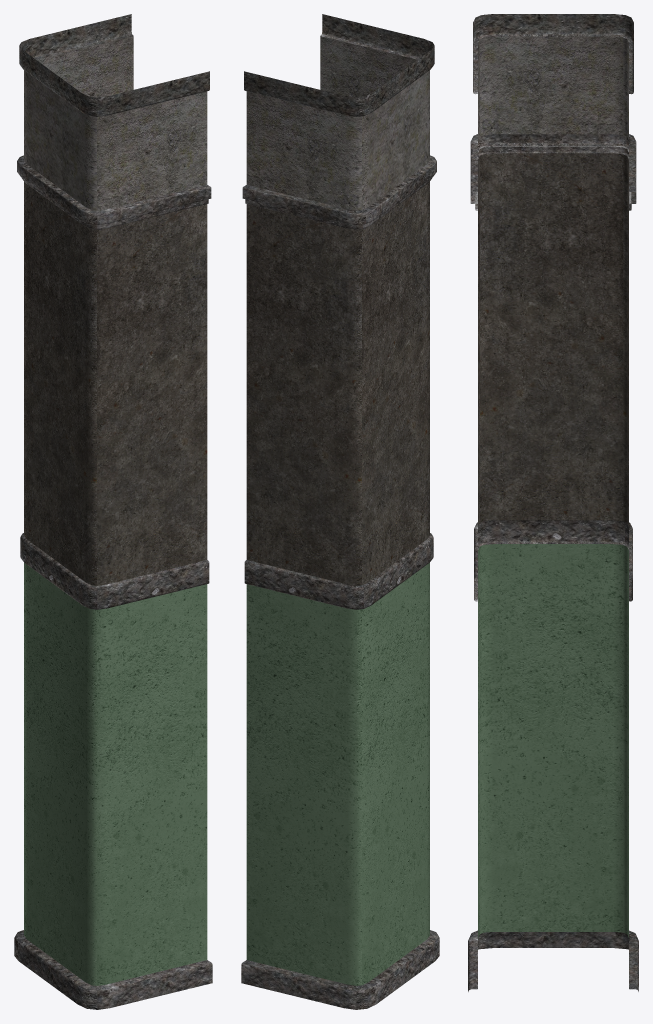
The model's file is WallColumn.FBX.
3 views of the same model, side by side, from view 1: azimuth 30°, elevation 25°; view 2: azimuth 150°, elevation 25°; view 3: azimuth 270°, elevation 25° (orthographic). The views are drawn at different scales.
Visible parts, largest first — view 1: Column001; view 2: Column001; view 3: Column001.
Boxes of the visible parts, x1=… form: Column001: x1=14, y1=14, x2=212, y2=1009; Column001: x1=241, y1=14, x2=439, y2=1009; Column001: x1=468, y1=14, x2=638, y2=991.
Bounding box in the file's own units: 11.81 × 83.38 × 13.78.
